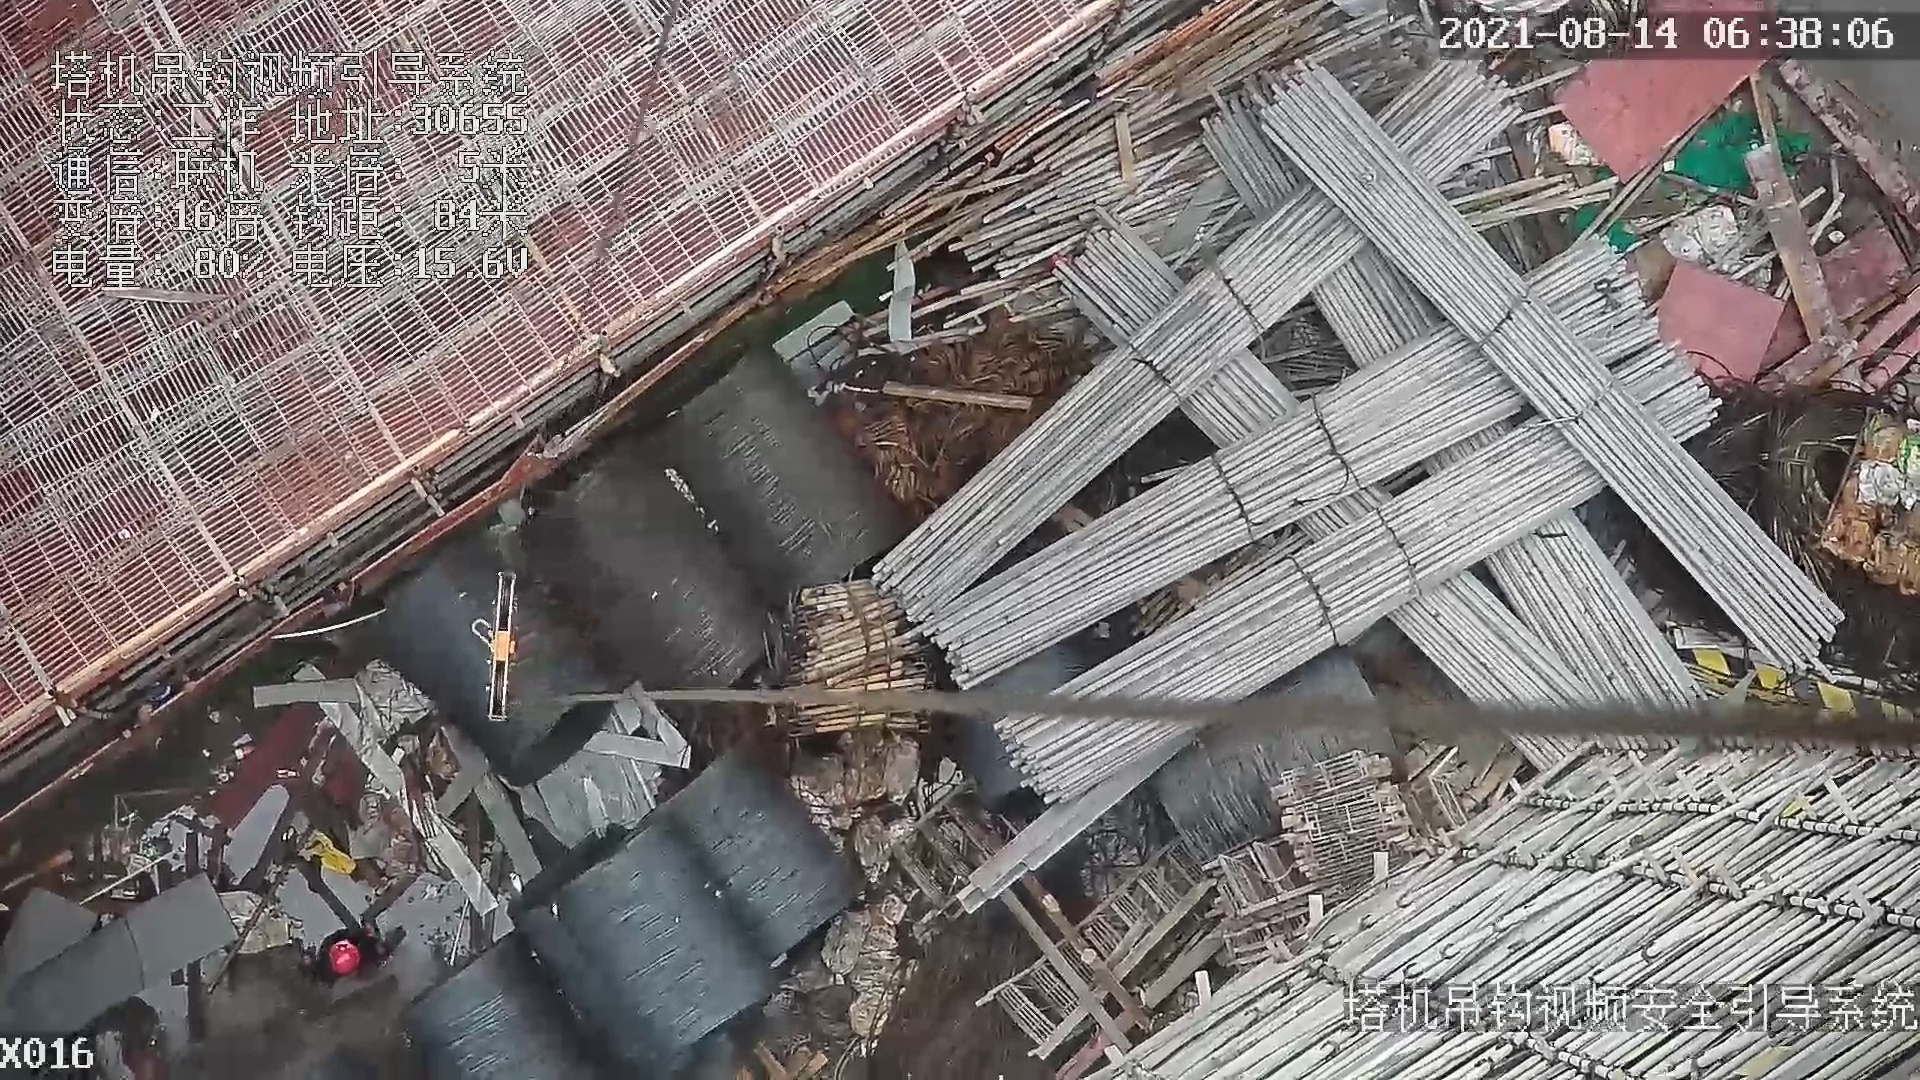helmet: (324, 931, 369, 981)
hook: (470, 572, 519, 726)
person: (309, 926, 405, 985)
scaffold: (905, 37, 1826, 701), (765, 555, 938, 755)
